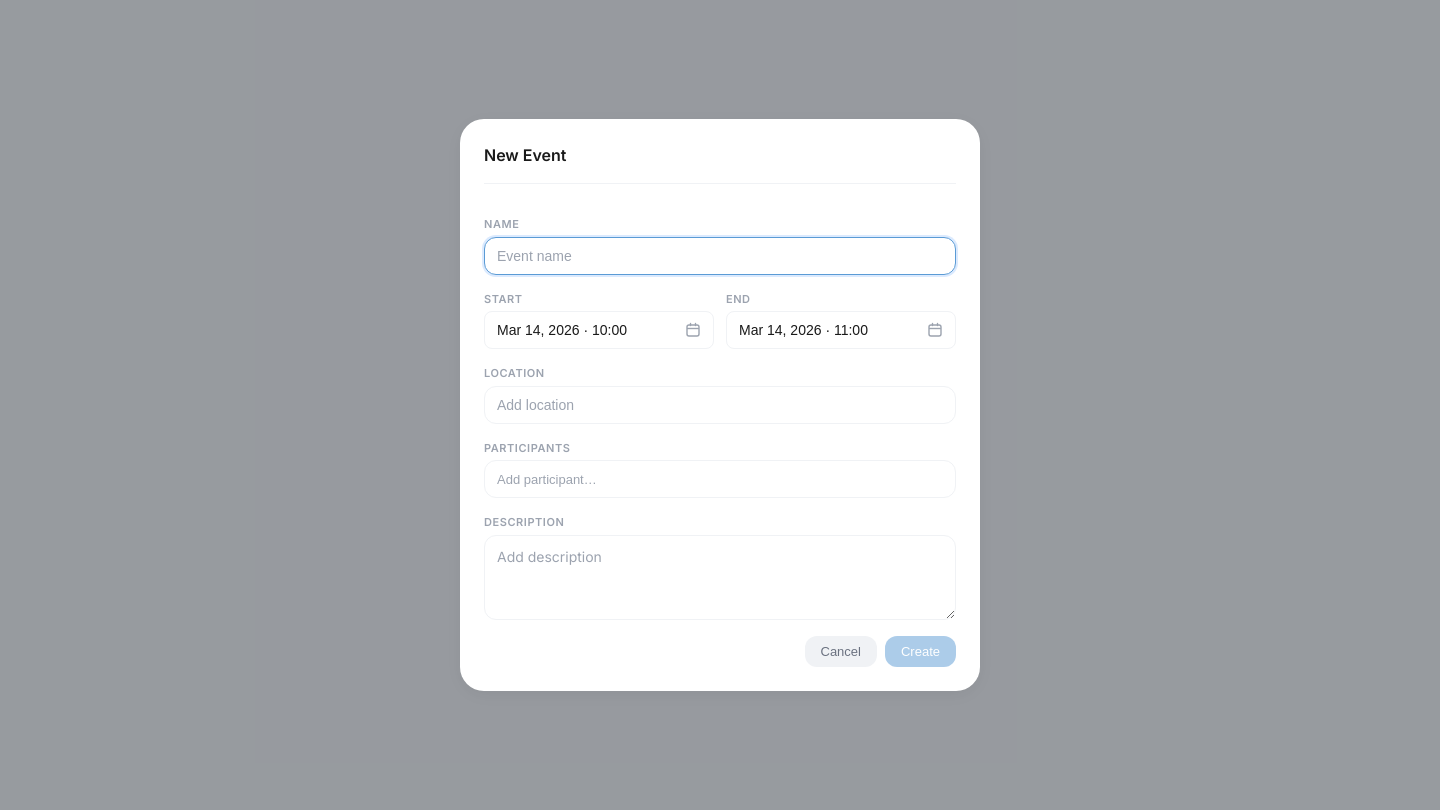
Test case: EventCreateModal — participants › removes a participant when the × button is clicked
Type "dave@example.com" into the field with placeholder "Add participant…". click: [720, 479]
box: x1=495 y1=471 x2=945 y2=488
Then press Enter
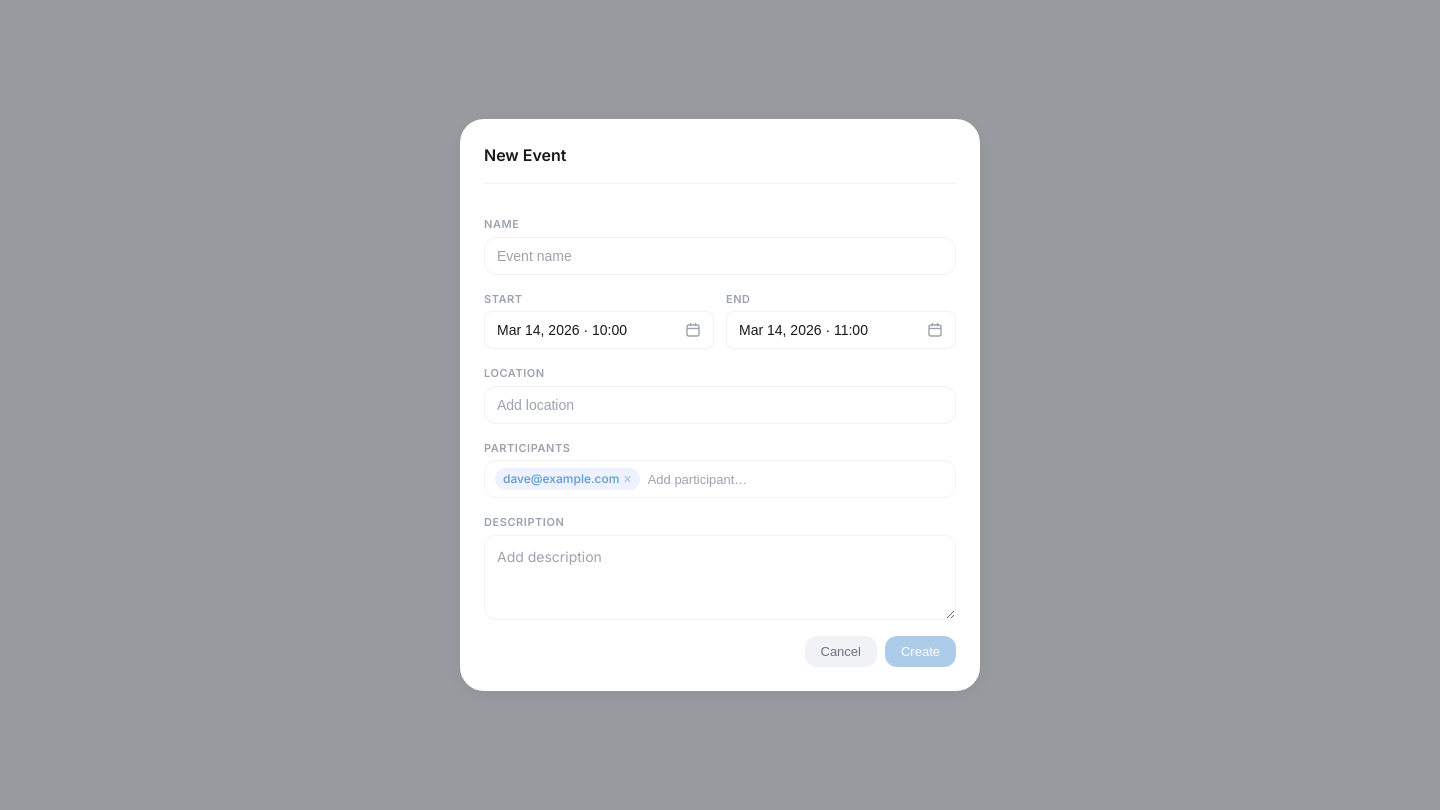
Click the button titled "Remove dave@example.com". click: [628, 479]
box: x1=624 y1=472 x2=632 y2=486
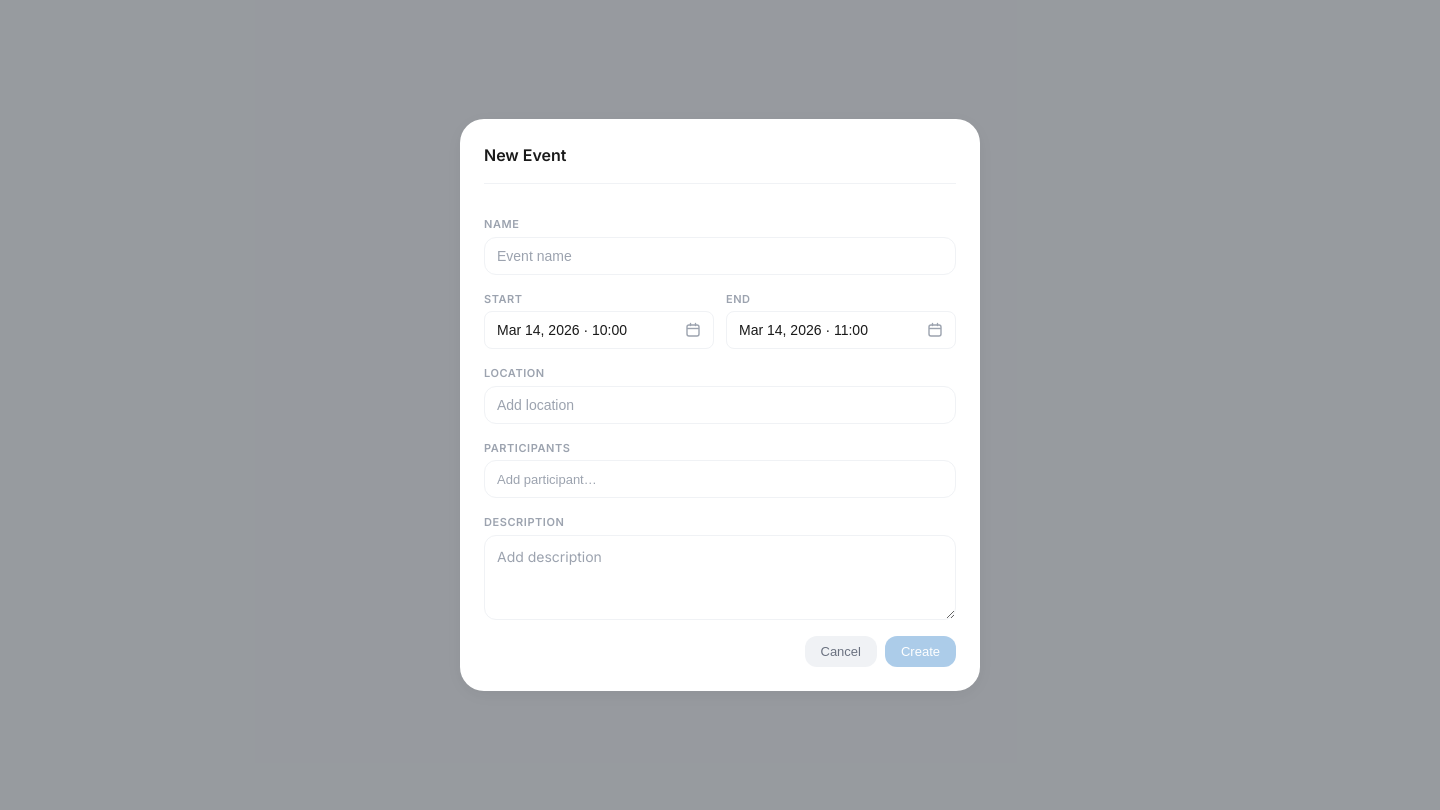
Check: the text "dave@example.com" is gone
